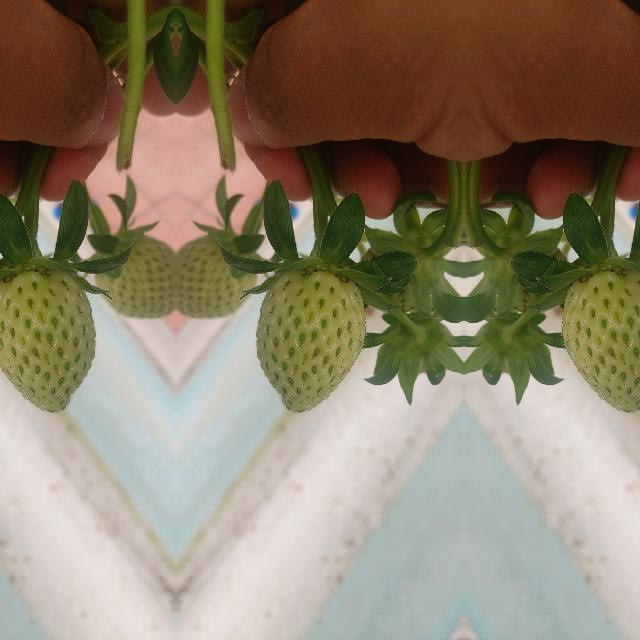Health_25: (254, 270, 364, 412), (0, 270, 96, 412), (562, 270, 640, 412), (175, 231, 261, 321), (89, 231, 175, 321)
